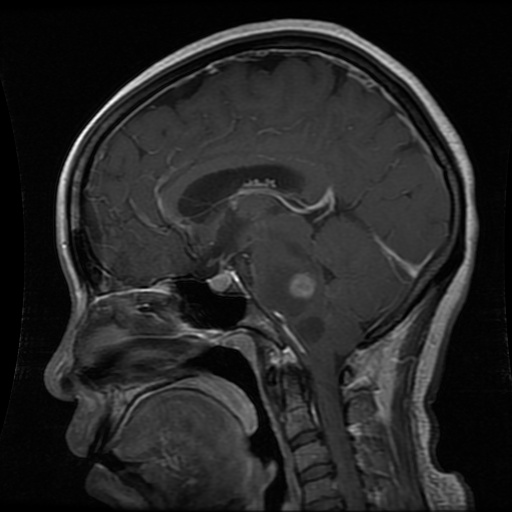glioma: (291, 272, 316, 298)
